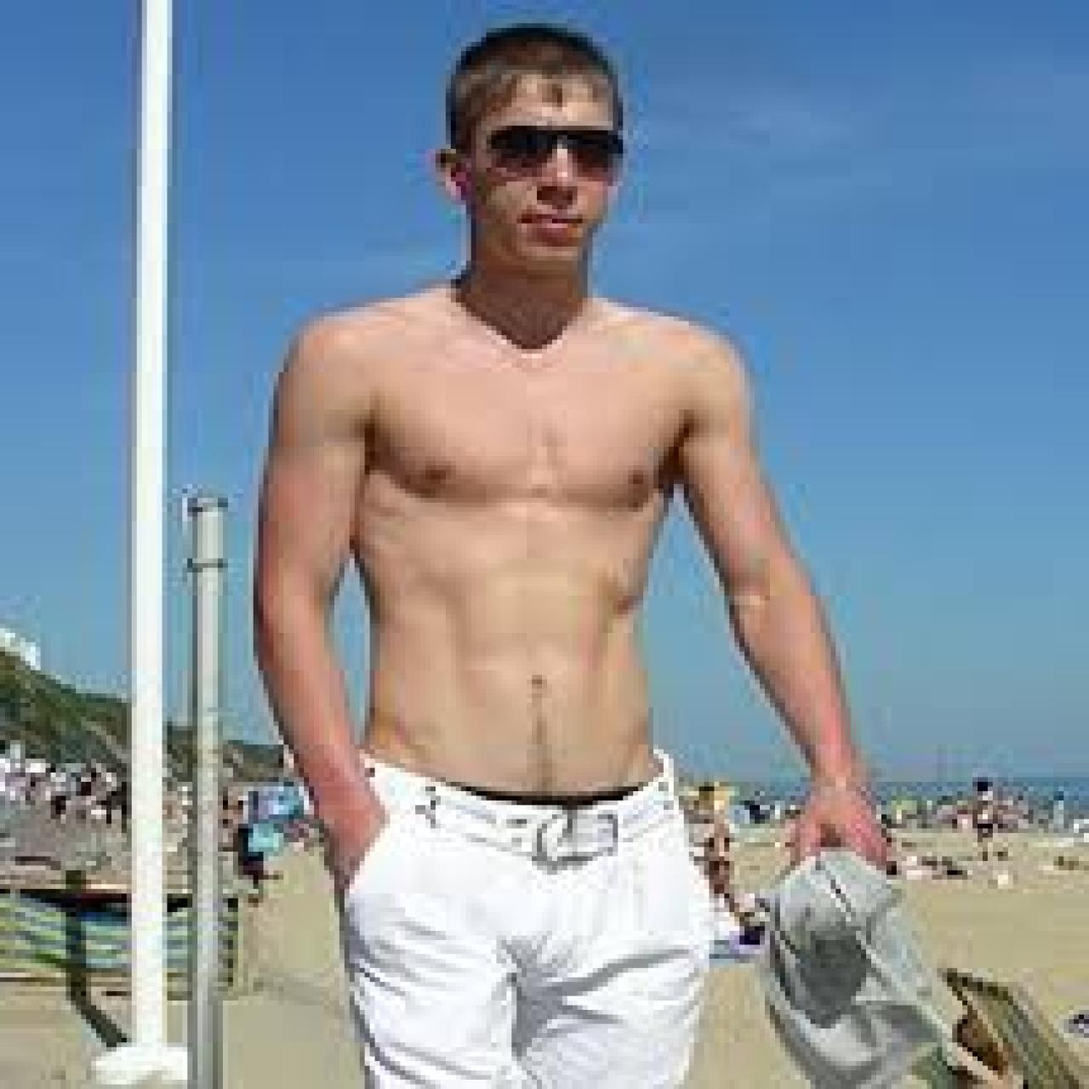NO_Safety_Vest: (291, 278, 765, 821)
Person: (242, 0, 918, 1089)
